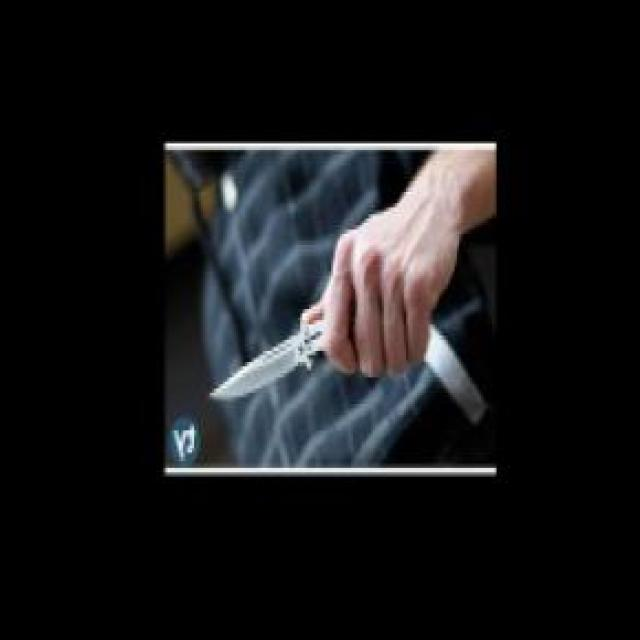knife: (205, 311, 342, 400)
